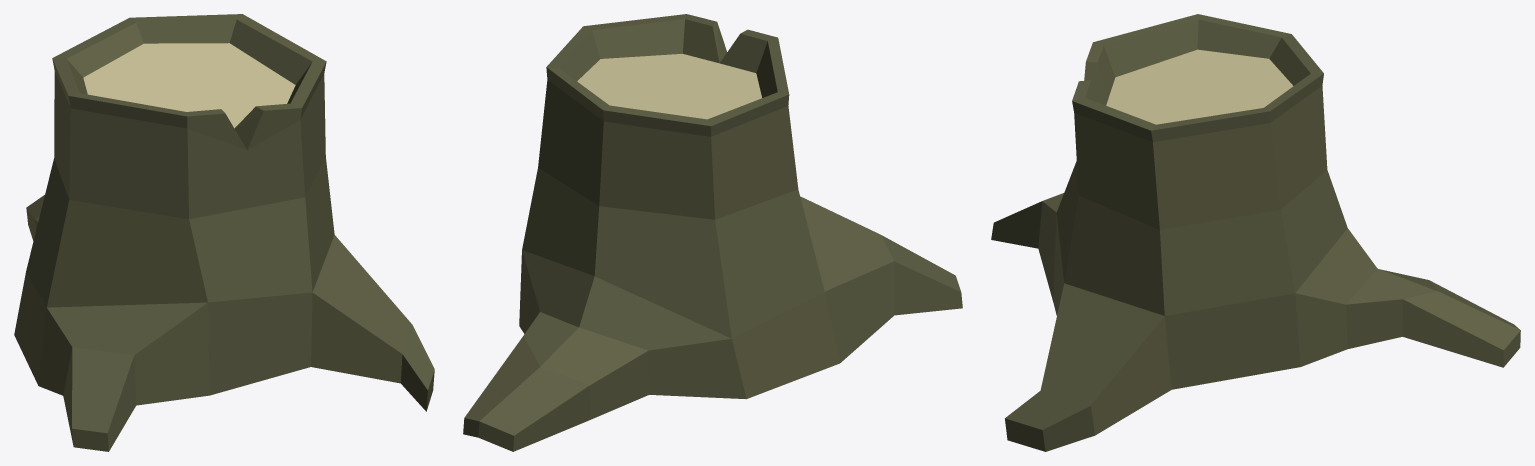
Rendered from trunk1.fbx.
3 renders of one model, left to right at view 1: azimuth 30°, elevation 25°; view 2: azimuth 150°, elevation 25°; view 3: azimuth 270°, elevation 25°, orthographic. The views are drawn at different scales.
Visible parts, largest first — view 1: Cube; view 2: Cube; view 3: Cube.
Part boxes in pixels (<box>): Cube: <box>14,14,434,451</box>; Cube: <box>463,14,962,451</box>; Cube: <box>991,14,1520,451</box>.
Size of the model in its own units: 0.8154 by 0.6479 by 1.02.
